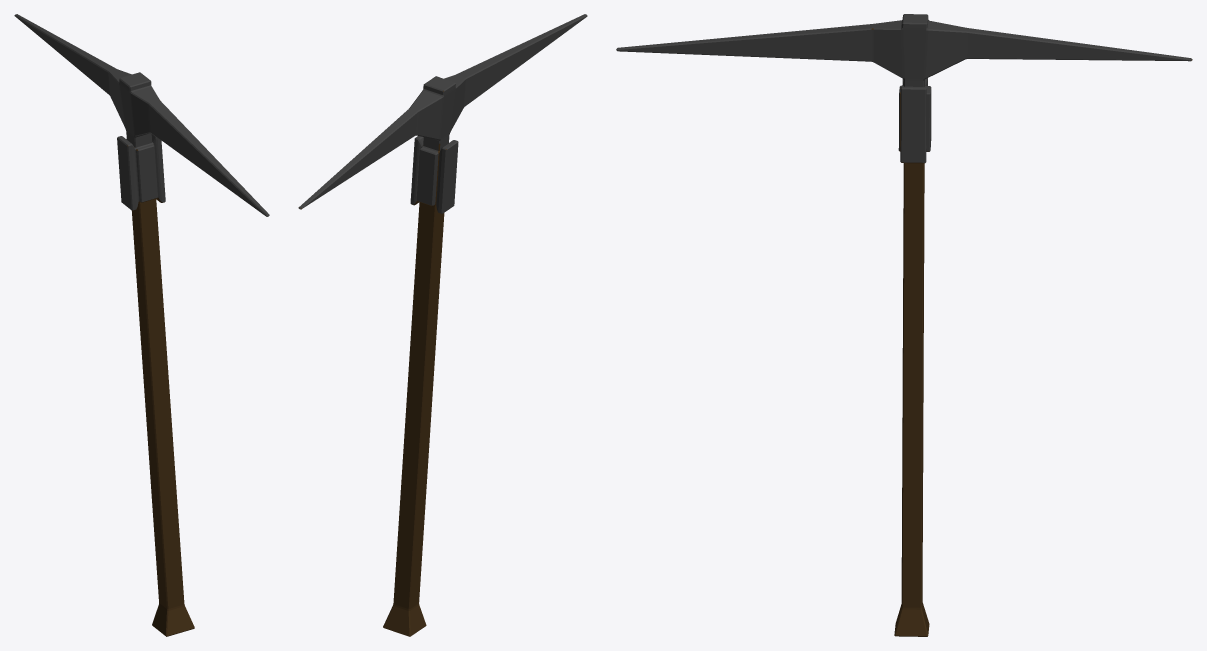
The model's file is pickaxe.fbx.
The picture shows the model from 3 angles, left to right: view 1: azimuth 30°, elevation 25°; view 2: azimuth 150°, elevation 25°; view 3: azimuth 270°, elevation 25°; orthographic projection. The views are drawn at different scales.
Parts seen in each view (by area): view 1: pickaxe; view 2: pickaxe; view 3: pickaxe.
Boxes of the visible parts, x1,y1,x2,y2 form: pickaxe: (14,14,269,636); pickaxe: (298,14,587,636); pickaxe: (616,14,1192,636).
Bounding box in the file's own units: 6.86 × 56.38 × 49.49.
